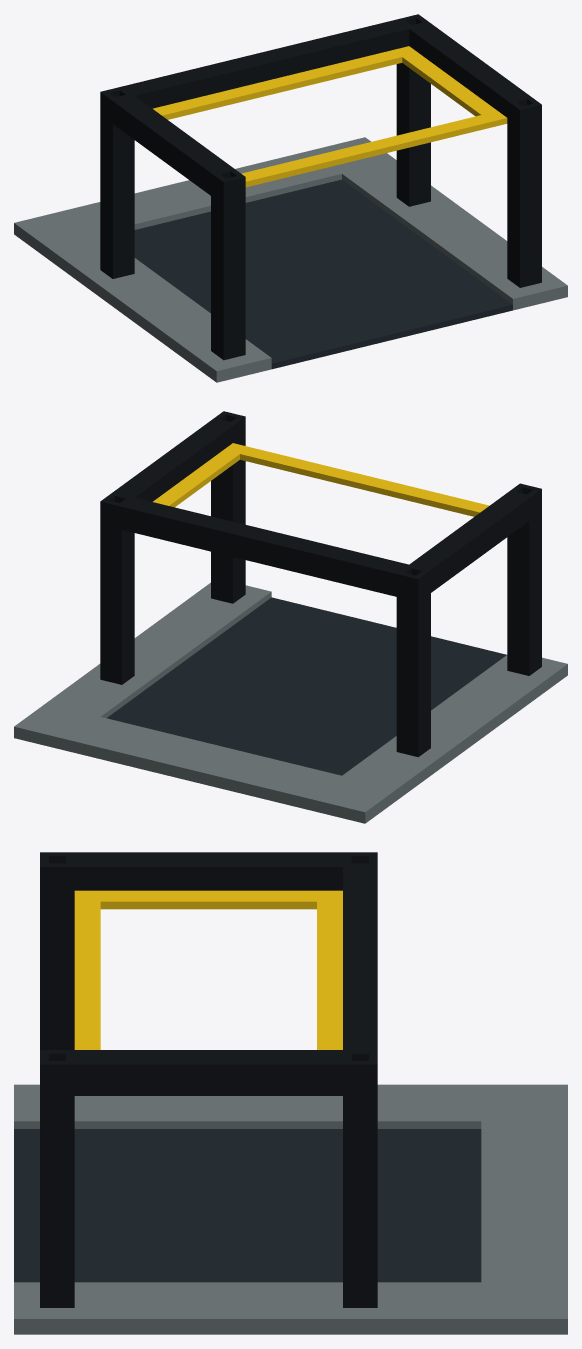
The model's file is StonePickup.obj.
The picture shows the model from 3 angles, top to bottom: view 1: azimuth 30°, elevation 25°; view 2: azimuth 150°, elevation 25°; view 3: azimuth 270°, elevation 25°; orthographic projection. The views are drawn at different scales.
Bounding box in the file's own units: 6.4 × 3.3 × 6.4.
Materials: 1 (1 with a texture image).
